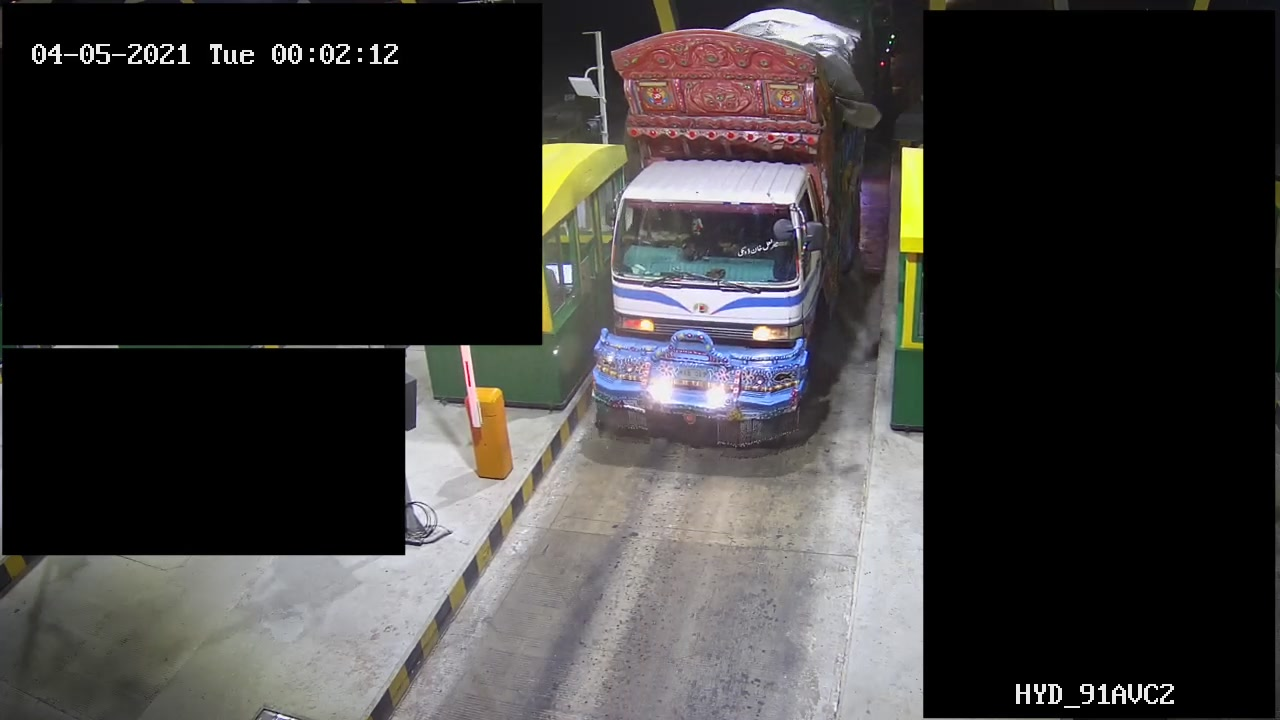F5: (579, 6, 879, 450)
